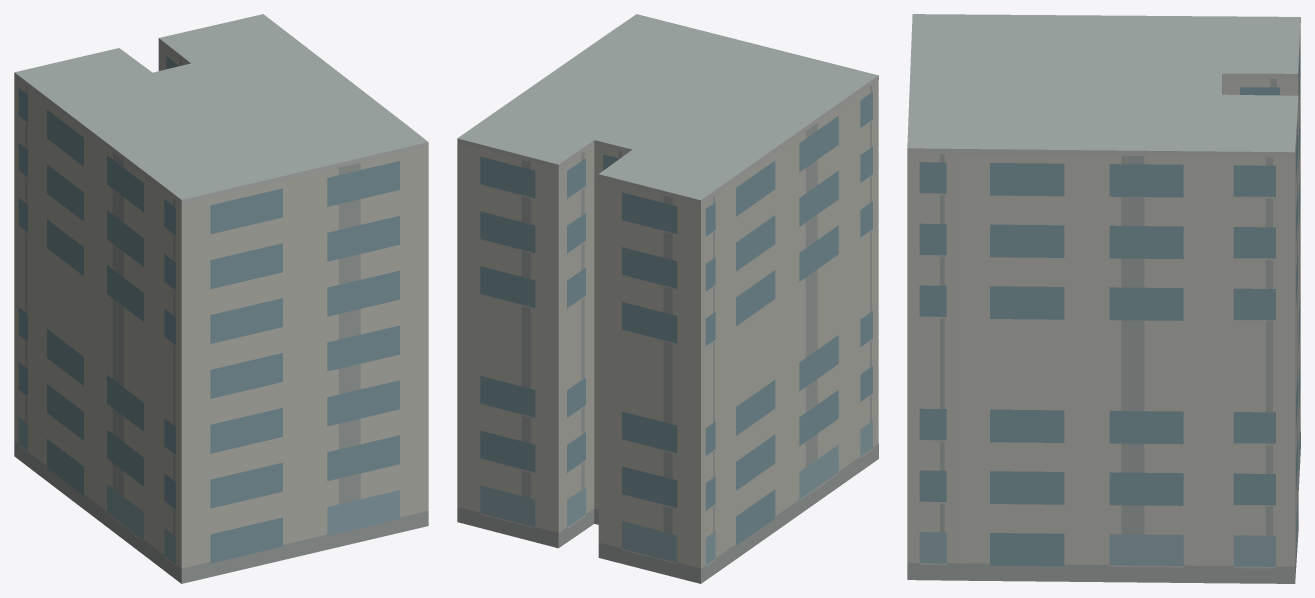
Rendered from survey-upis-32719653.glb.
The picture shows the model from 3 angles, left to right: view 1: azimuth 30°, elevation 25°; view 2: azimuth 150°, elevation 25°; view 3: azimuth 270°, elevation 25°; orthographic projection. The views are drawn at different scales.
Parts seen in each view (by area): view 1: survey-upis-32719653.tmp; view 2: survey-upis-32719653.tmp; view 3: survey-upis-32719653.tmp.
Part boxes in pixels (<box>): survey-upis-32719653.tmp: <box>14,14,428,583</box>; survey-upis-32719653.tmp: <box>457,14,878,583</box>; survey-upis-32719653.tmp: <box>907,14,1300,583</box>.
Size of the model in its own units: 13.81 by 20.1 by 16.61.
